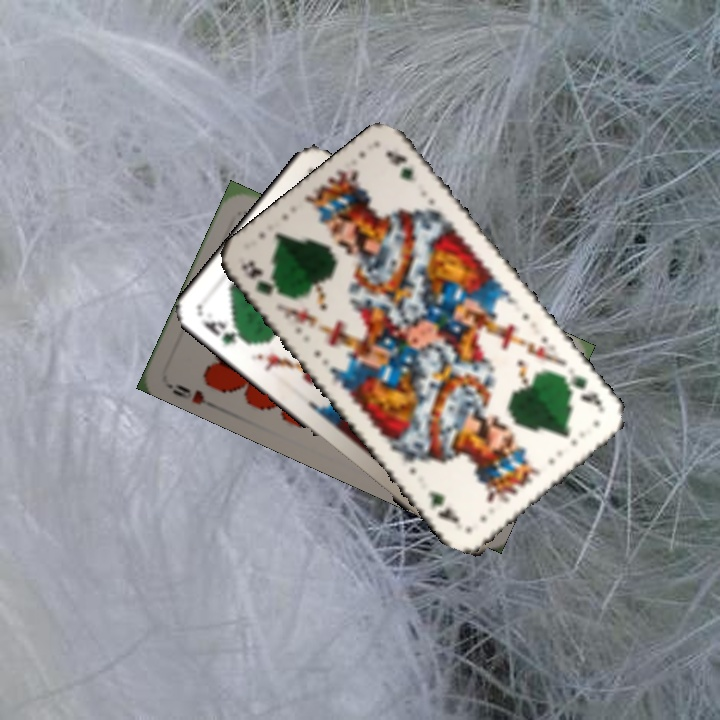GK: (237, 255, 288, 301), (560, 369, 609, 416), (198, 316, 250, 348)
H9: (164, 379, 220, 412)
